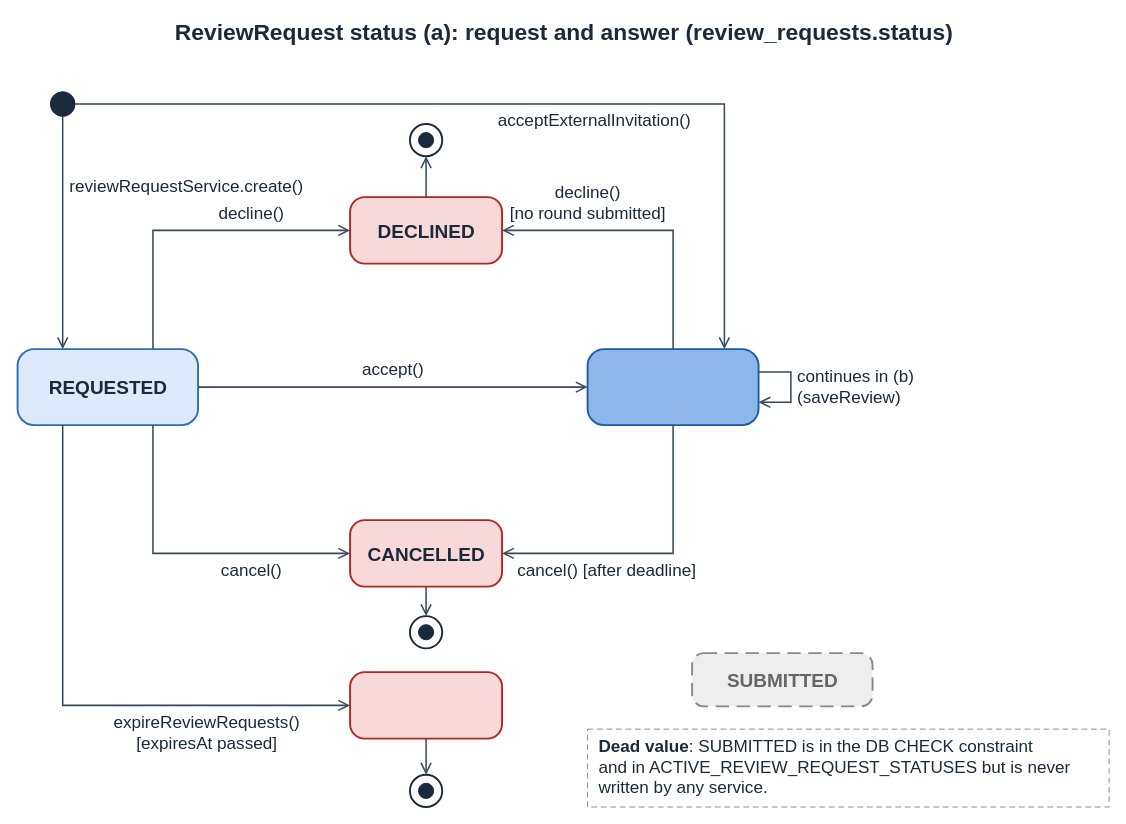
The diagram is 1126 pixels wide and 824 high, and some of its shapes have lost their labels. Each missing label, with the centre of its shape:
"ACCEPTED" belongs at [672,387].
"EXPIRED" belongs at [426,705].
